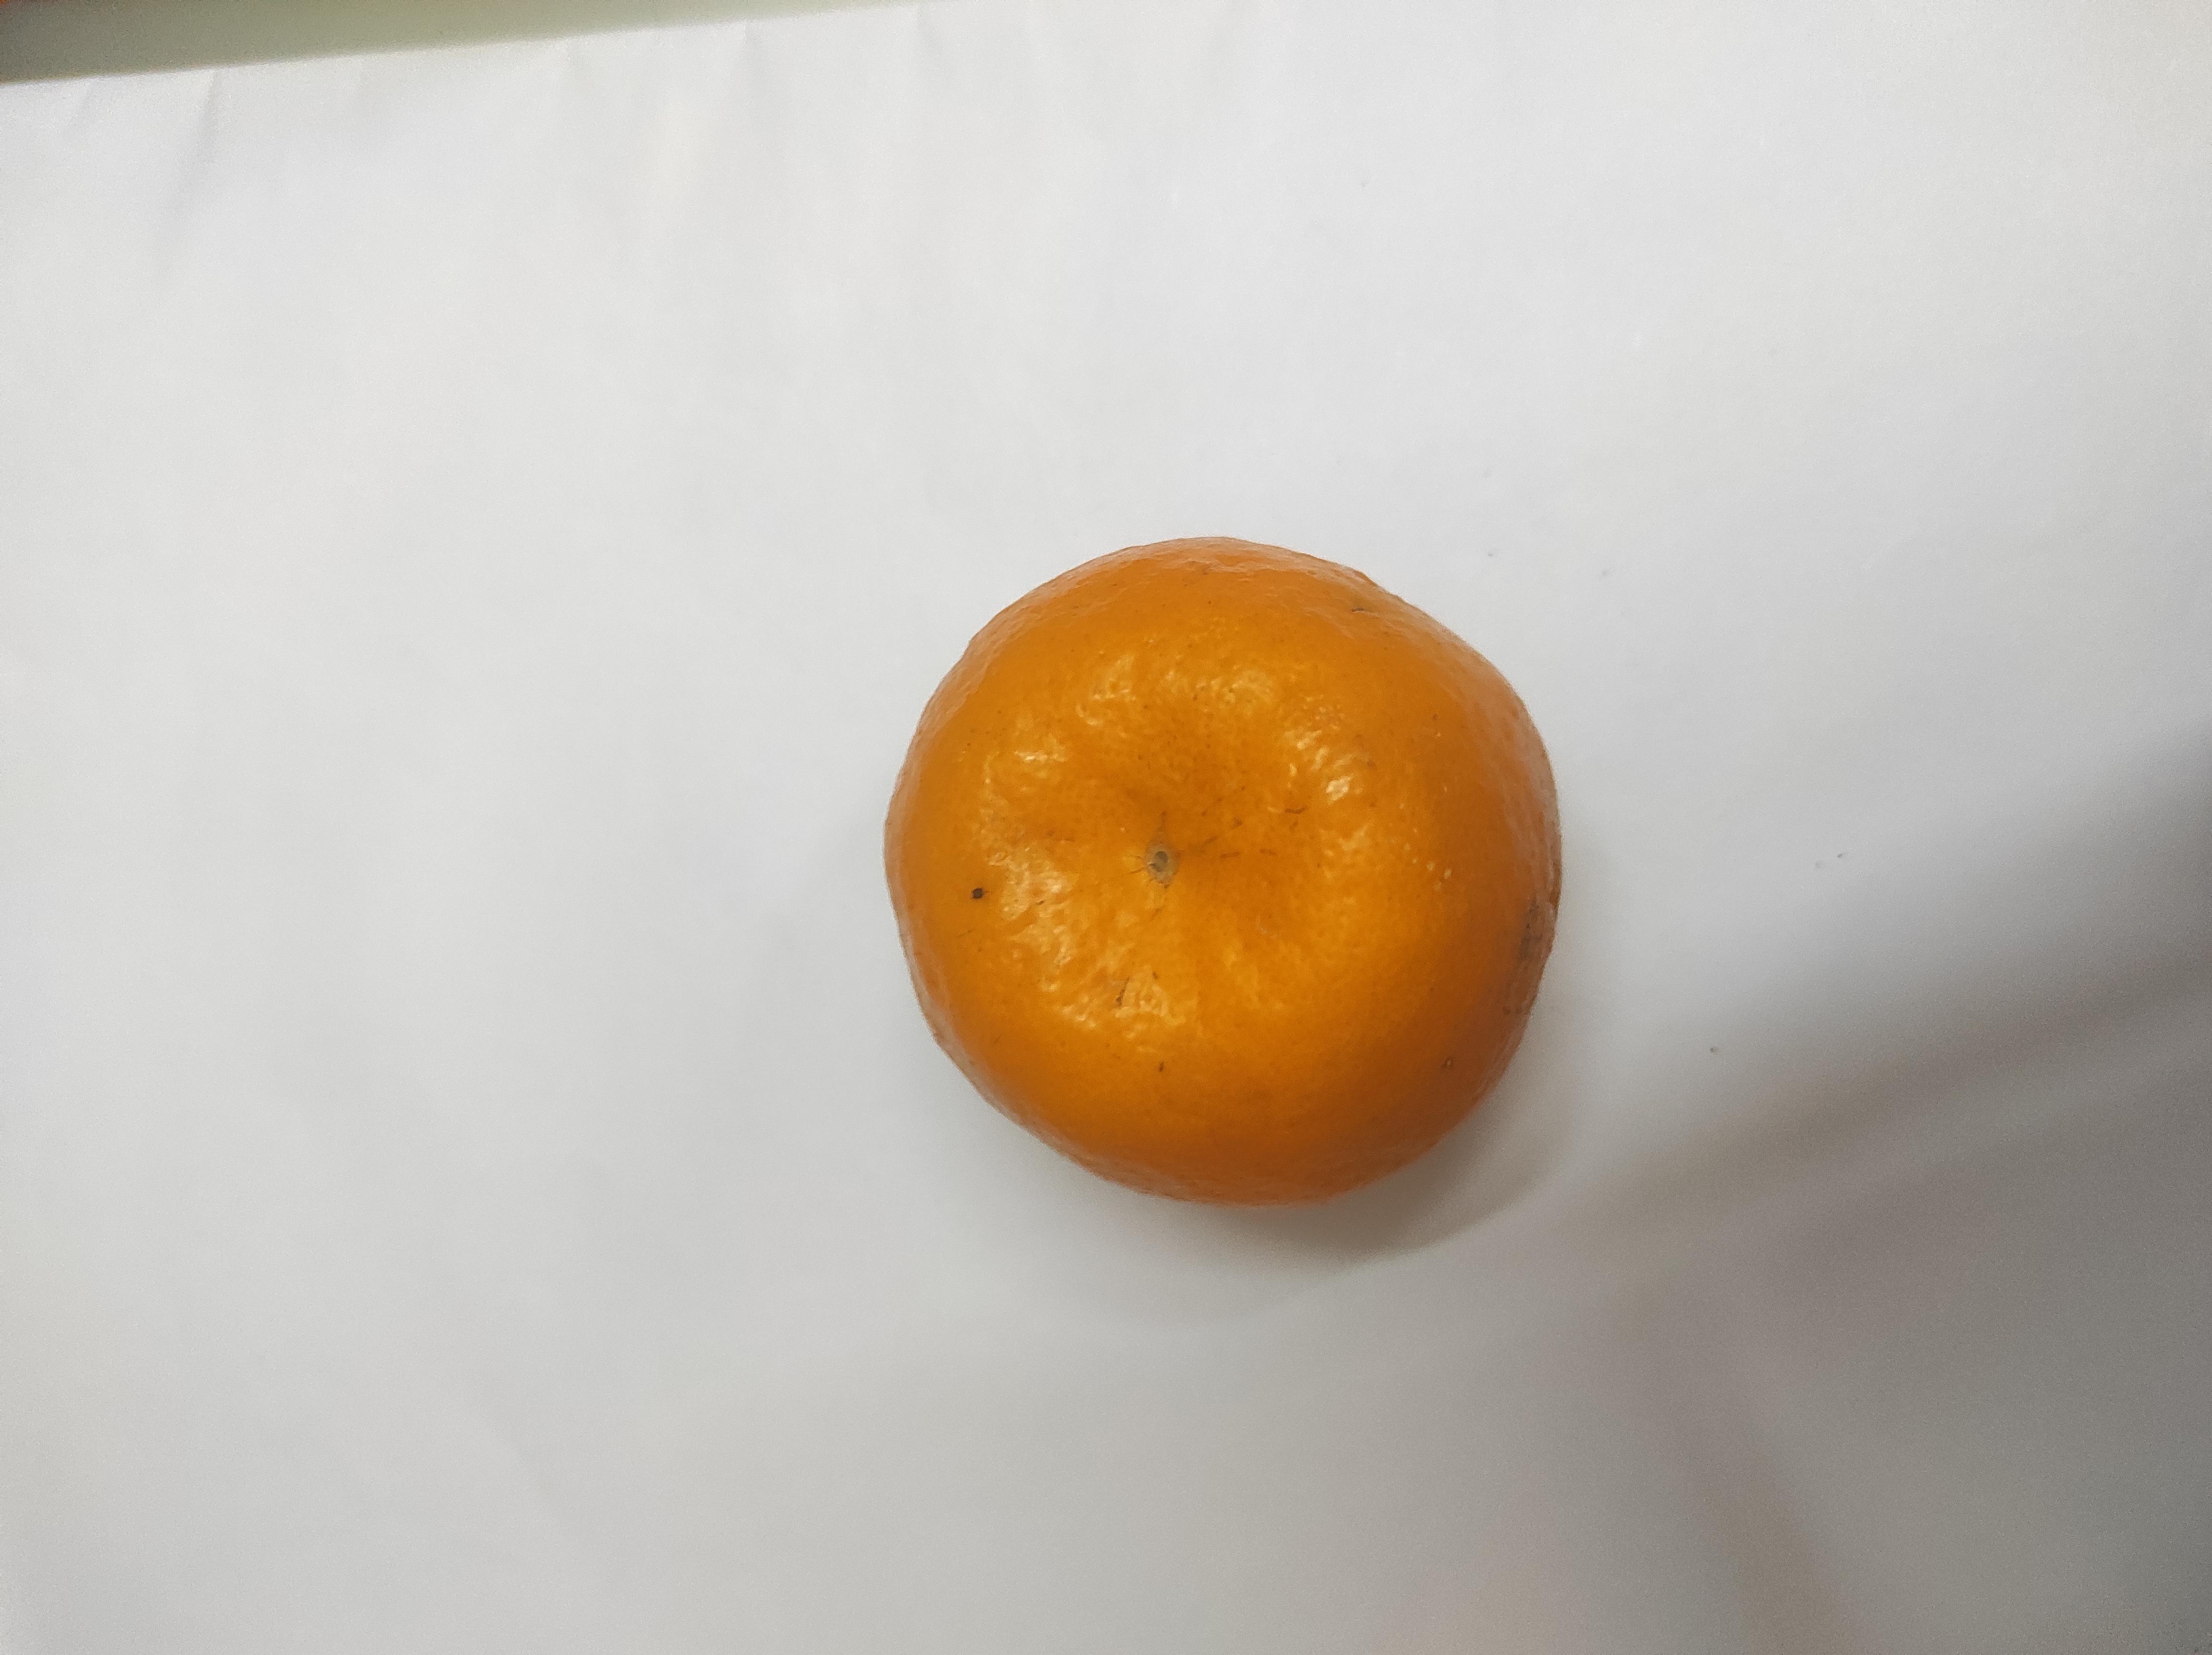Ripe: (892, 525, 1574, 1196)
